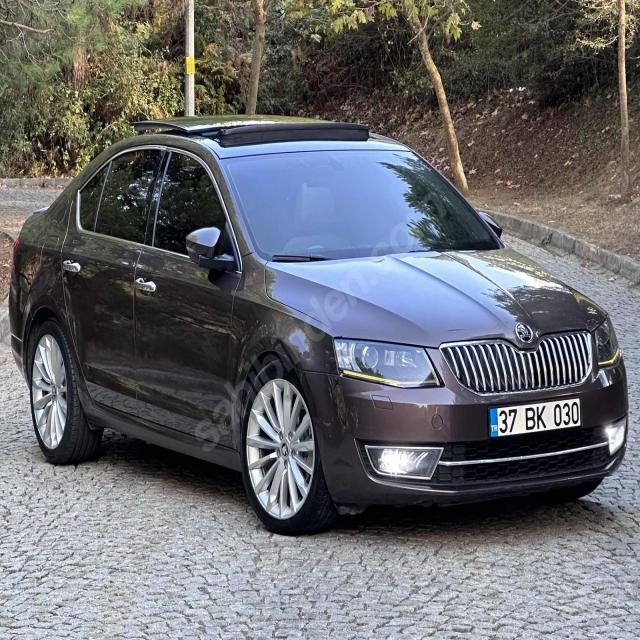skoda: (513, 322, 534, 342)
